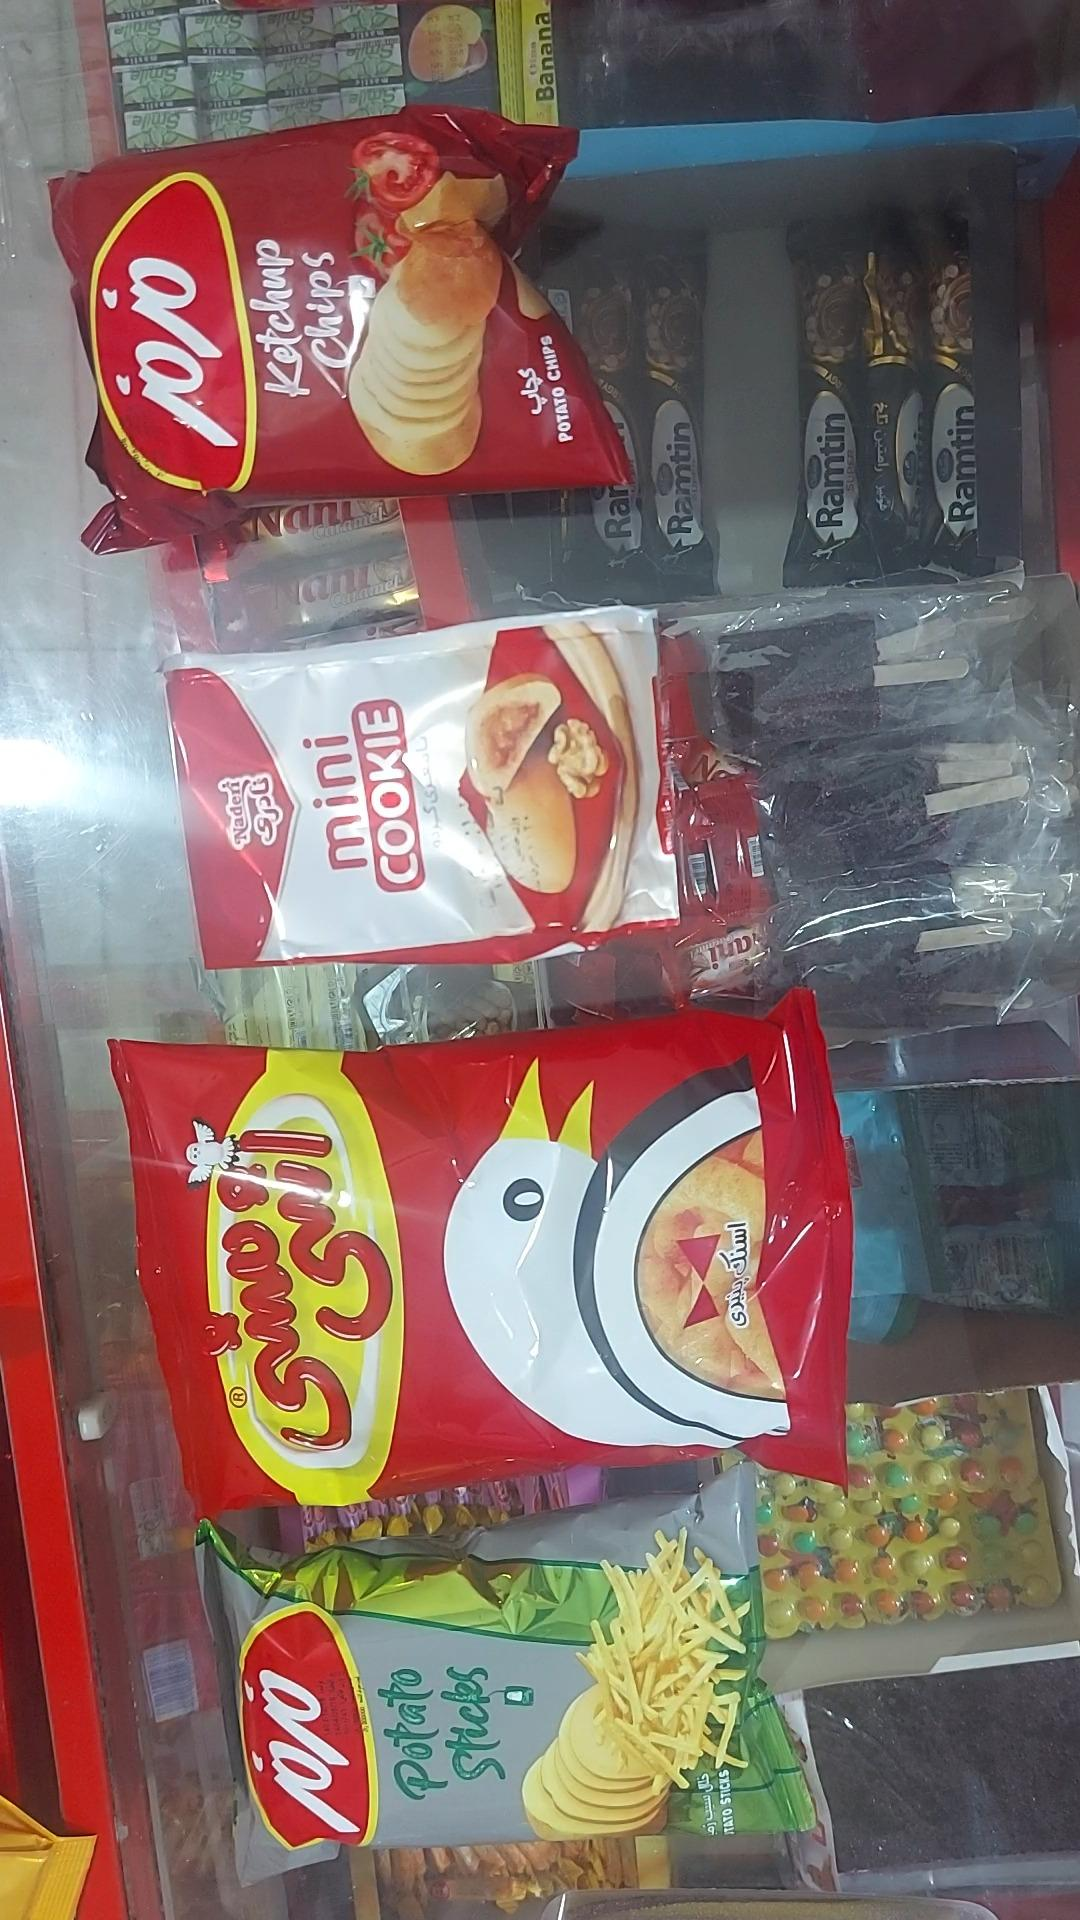Ashi Mashi snacks: (107, 989, 855, 1524)
Maz Maz ketchup chips: (40, 94, 633, 555)
Maz Maz potato sticks: (200, 1456, 823, 1882)
Naderi mini cookie: (161, 603, 687, 963)
